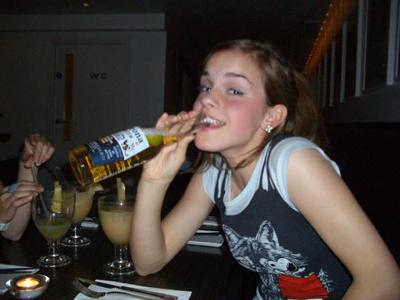person: (128, 40, 400, 299)
